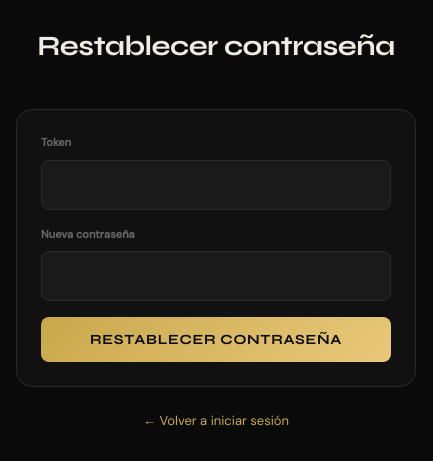
it: Recuperación de contraseña › rechaza un token inválido
The width and height of the screenshot is (433, 461).
Type "token-que-no-existe" into the field with test id "reset-token" at [216, 185], box 41,160 -> 391,210
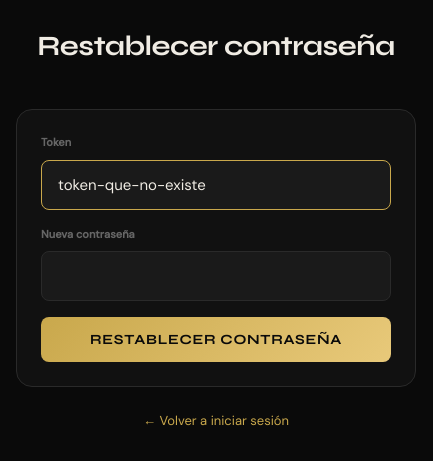
Type "CualquierPass1!" into the password field with test id "reset-new-password" at [216, 276], box 41,251 -> 391,301
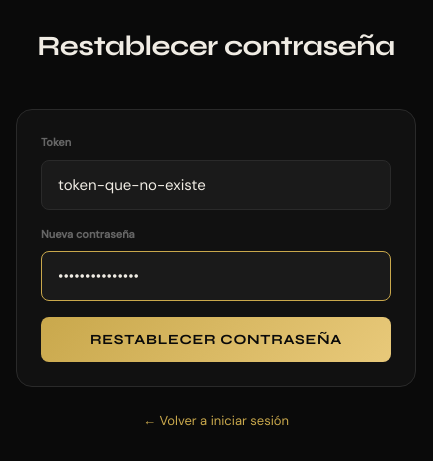
Click the button with test id "reset-submit" at [216, 340], box 41,317 -> 391,362
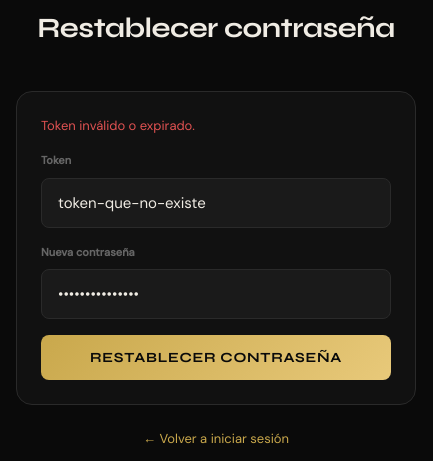
Now the text "Token inválido o expirado." is shown, box 41,116 -> 195,134
